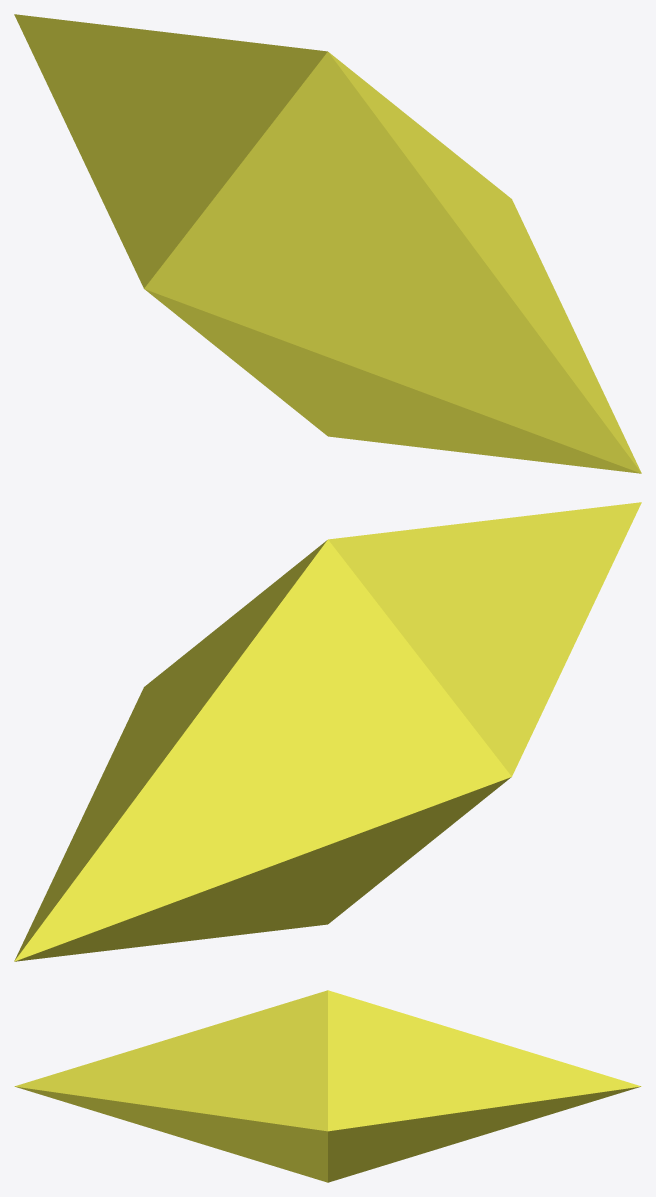
The model's file is bulet.fbx.
3 views of the same model, one above another, from view 1: azimuth 30°, elevation 25°; view 2: azimuth 150°, elevation 25°; view 3: azimuth 270°, elevation 25° (orthographic). The views are drawn at different scales.
Visible parts, largest first — view 1: Cube; view 2: Cube; view 3: Cube.
Boxes of the visible parts, x1,y1,x2,y2 form: Cube: [14, 14, 641, 473]; Cube: [14, 502, 641, 961]; Cube: [14, 990, 641, 1182].
Size of the model in its own units: 200 by 200 by 591.
